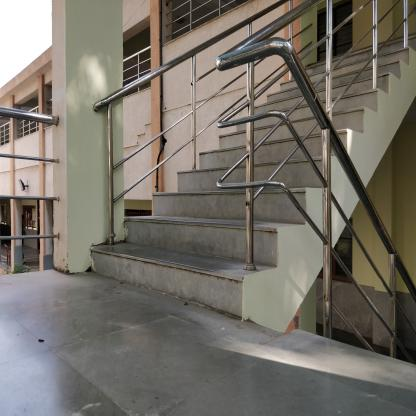stairs: (153, 192, 241, 316)
